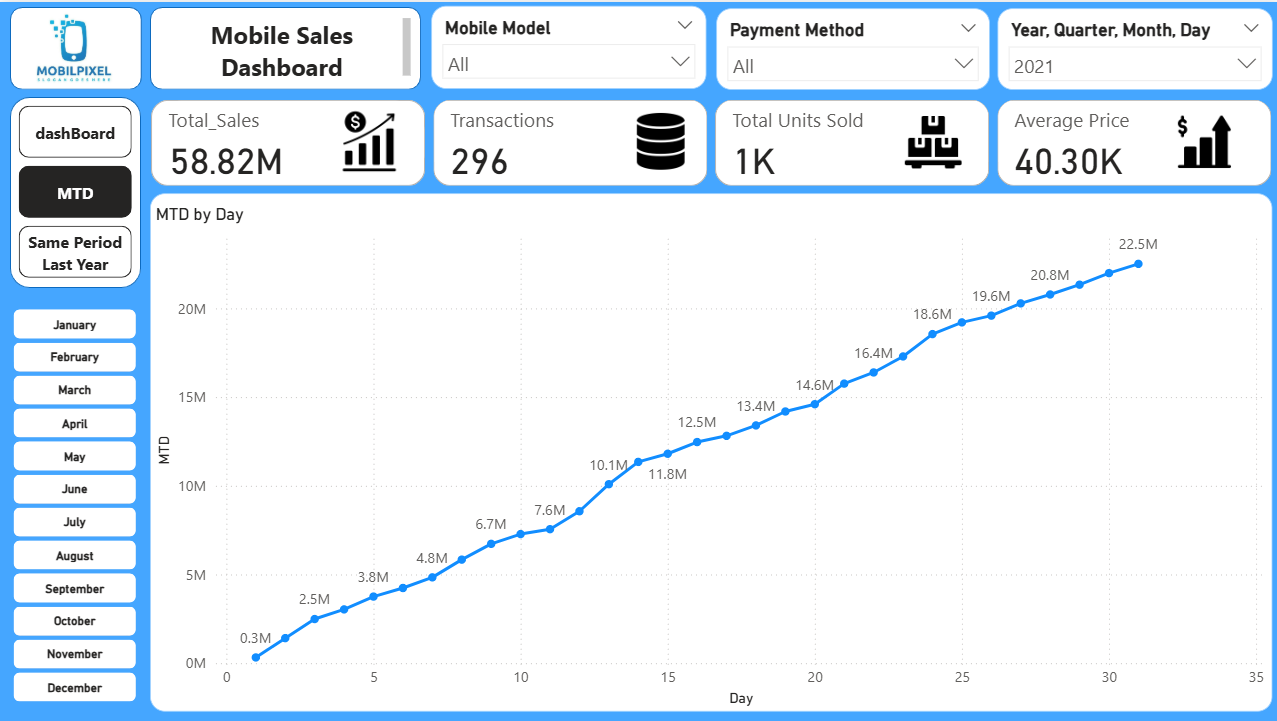

The page's visual inventory and layout, read from the dashboard file:
{"tool":"powerbi","page":{"name":"MTD","canvas":[1280,720],"ordinal":1},"visuals":[{"type":"shape","box":[9.5,5,131.8,82.7],"z":0},{"type":"shape","box":[10,95,131,191],"z":1000},{"type":"slicer","fields":{"Values":["Sales_data.Mobile Model"]},"box":[431.4,4.3,275,83.6],"z":2000},{"type":"slicer","fields":{"Values":["Sales_data.Payment Method"]},"box":[715.7,6.4,273.6,81.4],"z":3000},{"type":"slicer","fields":{"Values":["Personalized_Calender.Date.Variation.Date Hierarchy.Year","Personalized_Calender.Date.Variation.Date Hierarchy.Quarter","Personalized_Calender.Date.Variation.Date Hierarchy.Month","Personalized_Calender.Date.Variation.Date Hierarchy.Day"]},"box":[997.1,6.4,275,81.4],"z":4000},{"type":"shape","box":[150,5,270.9,82.7],"z":5000},{"type":"textbox","box":[155.9,11.4,259.1,70.5],"z":6000},{"type":"image","box":[30,0,90,91.4],"z":7000},{"type":"lineChart","fields":{"Category":["Personalized_Calender.Date.Variation.Date Hierarchy.Year","Personalized_Calender.Date.Variation.Date Hierarchy.Quarter","Personalized_Calender.Date.Variation.Date Hierarchy.Month","Personalized_Calender.Date.Variation.Date Hierarchy.Day"],"Y":["Sales_data.MTD"]},"box":[150,191.2,1122.5,518.8],"z":8000},{"type":"advancedSlicerVisual","fields":{"Values":["Personalized_Calender.Date.Variation.Date Hierarchy.Month"]},"box":[9,302.8,132.2,411.1],"z":9000},{"type":"pageNavigator","box":[18.8,103.8,113.8,172.5],"z":10000},{"type":"cardVisual","fields":{"Data":["Sales_data.Total_Sales","Sales_data.Transactions","Sum(Sales_data.Units Sold)","Avg(Sales_data.Price Per Unit)"]},"box":[145.7,88.1,1131,101.4],"z":11000},{"type":"image","box":[333.8,103.8,71.2,71.2],"z":12000},{"type":"image","box":[900,105,66.2,70],"z":13000},{"type":"image","box":[1171.2,106.2,66.2,67.5],"z":14000},{"type":"image","box":[627.5,103.8,66.2,71.2],"z":15000}]}

Visuals, with their boxes in screenshot pixels (x1, y1, x2, y2), scaled from the page's 1280x720 canvas onto the 1277x721 screenshot:
shape: pyautogui.locateOnScreen(9, 5, 141, 88)
shape: pyautogui.locateOnScreen(10, 95, 141, 286)
slicer - Sales_data.Mobile Model: pyautogui.locateOnScreen(430, 4, 705, 88)
slicer - Sales_data.Payment Method: pyautogui.locateOnScreen(714, 6, 987, 88)
slicer - Personalized_Calender.Date.Variation.Date Hierarchy.Year x Personalized_Calender.Date.Variation.Date Hierarchy.Quarter: pyautogui.locateOnScreen(995, 6, 1269, 88)
shape: pyautogui.locateOnScreen(150, 5, 420, 88)
textbox: pyautogui.locateOnScreen(156, 11, 414, 82)
image: pyautogui.locateOnScreen(30, 0, 120, 92)
lineChart - Personalized_Calender.Date.Variation.Date Hierarchy.Year x Personalized_Calender.Date.Variation.Date Hierarchy.Quarter: pyautogui.locateOnScreen(150, 191, 1270, 711)
advancedSlicerVisual - Personalized_Calender.Date.Variation.Date Hierarchy.Month: pyautogui.locateOnScreen(9, 303, 141, 715)
pageNavigator: pyautogui.locateOnScreen(19, 104, 132, 277)
cardVisual - Sales_data.Total_Sales x Sales_data.Transactions: pyautogui.locateOnScreen(145, 88, 1274, 190)
image: pyautogui.locateOnScreen(333, 104, 404, 175)
image: pyautogui.locateOnScreen(898, 105, 964, 175)
image: pyautogui.locateOnScreen(1168, 106, 1234, 174)
image: pyautogui.locateOnScreen(626, 104, 692, 175)
